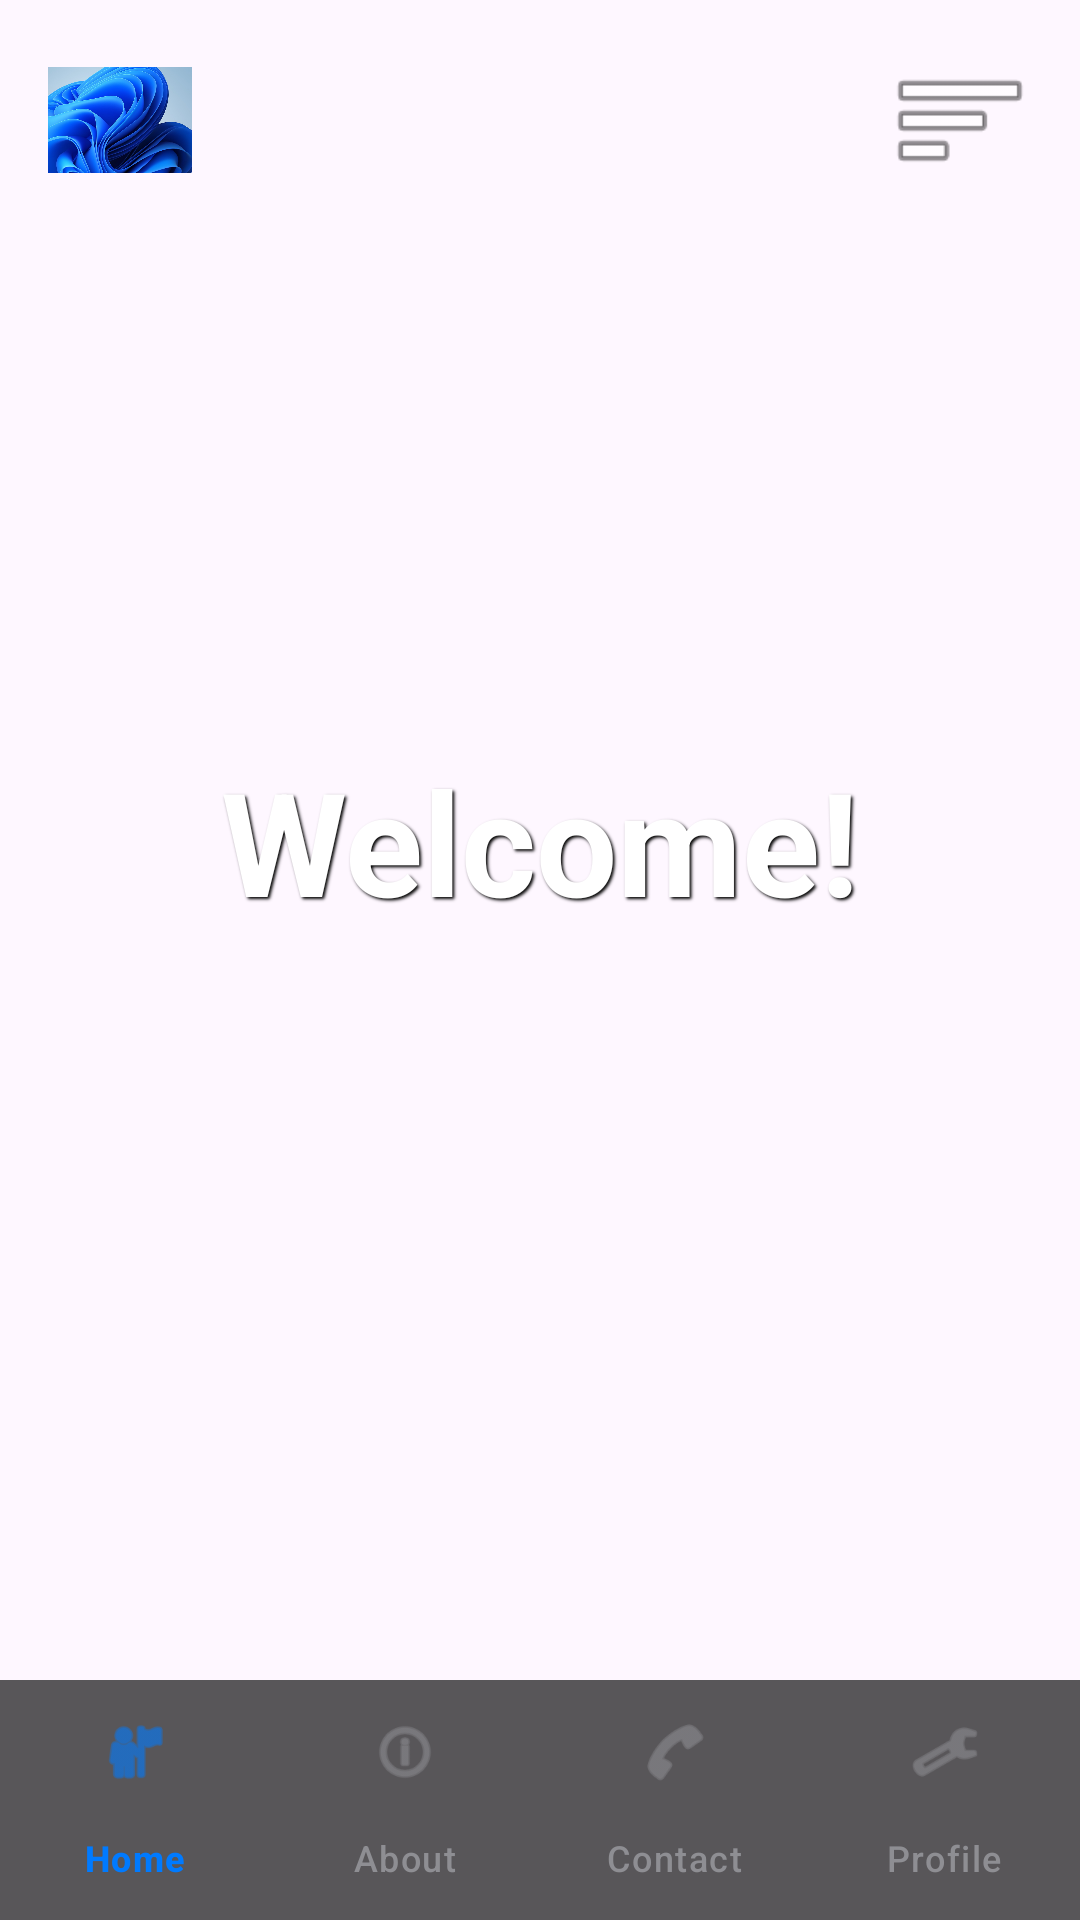

Icons on this 1080*1920 Android screen, each with the point to tap as (x=x, y=y):
sort by size: (x=960, y=120)
